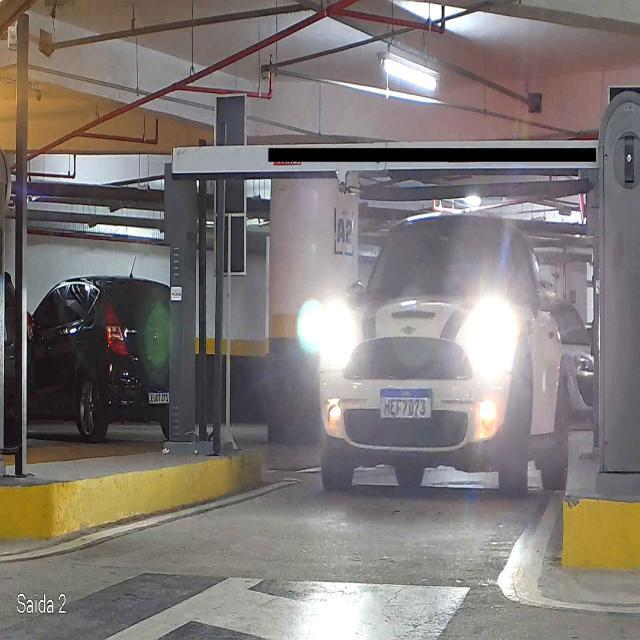mercosul_plate: (378, 387, 434, 420)
